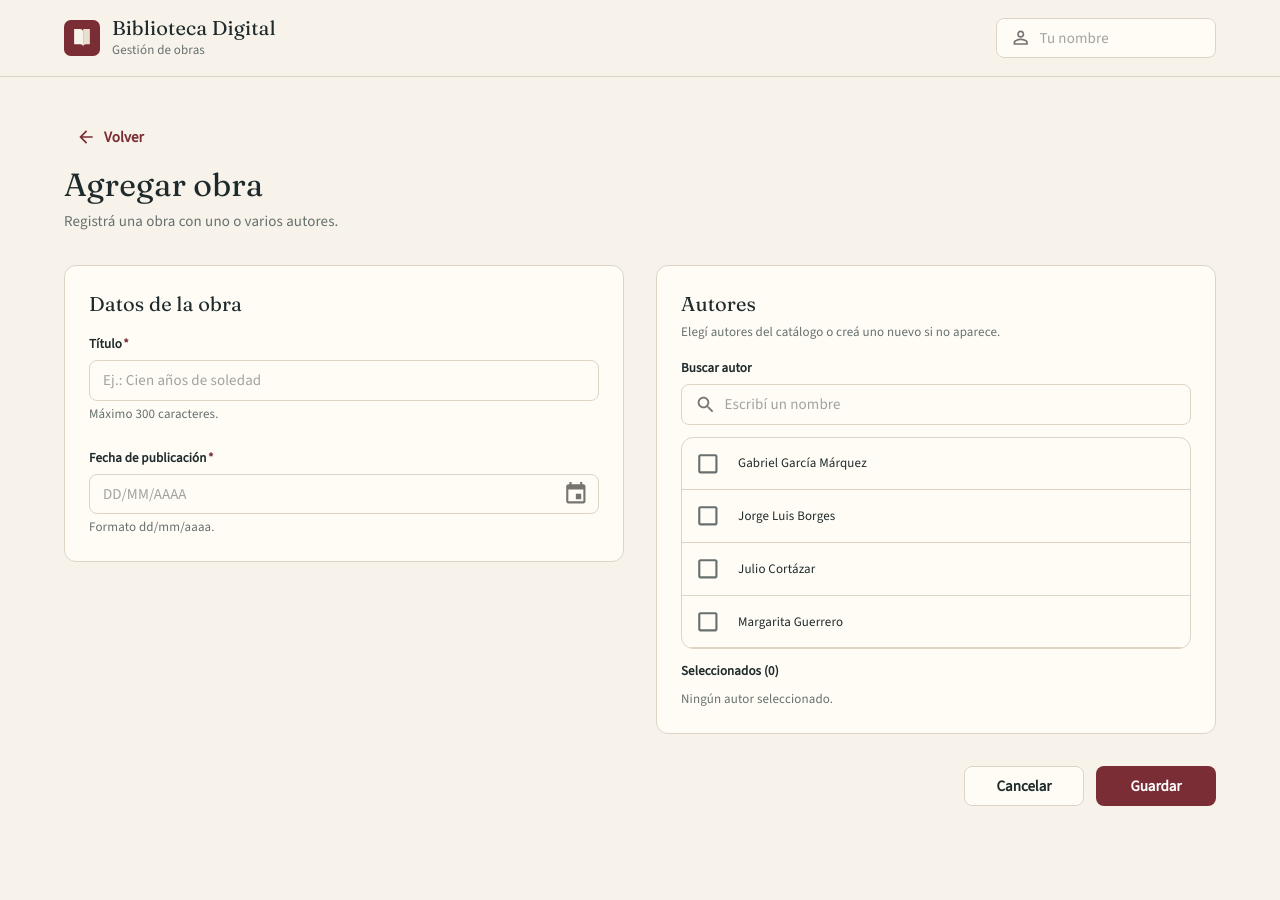
Test: Agregar obra › muestra un error general si la API falla
Expected: the list named "Autores encontrados" is shown, [682,438,1190,648]
In the field labelled "Título *": (344, 380) [89,360,599,401], type "Obra"
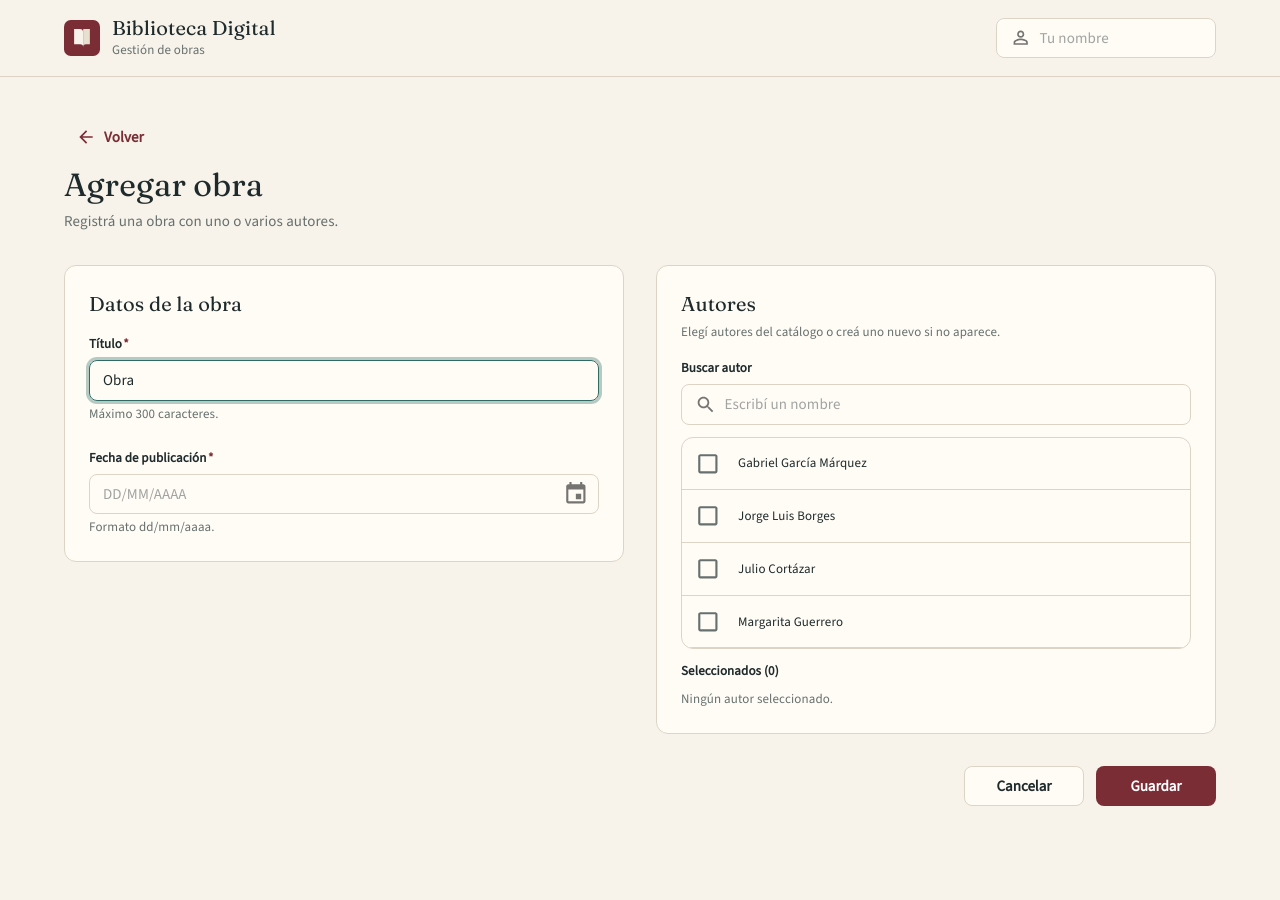
In the field labelled "Fecha de publicación *": (318, 494) [89,474,547,514], type "01012000"
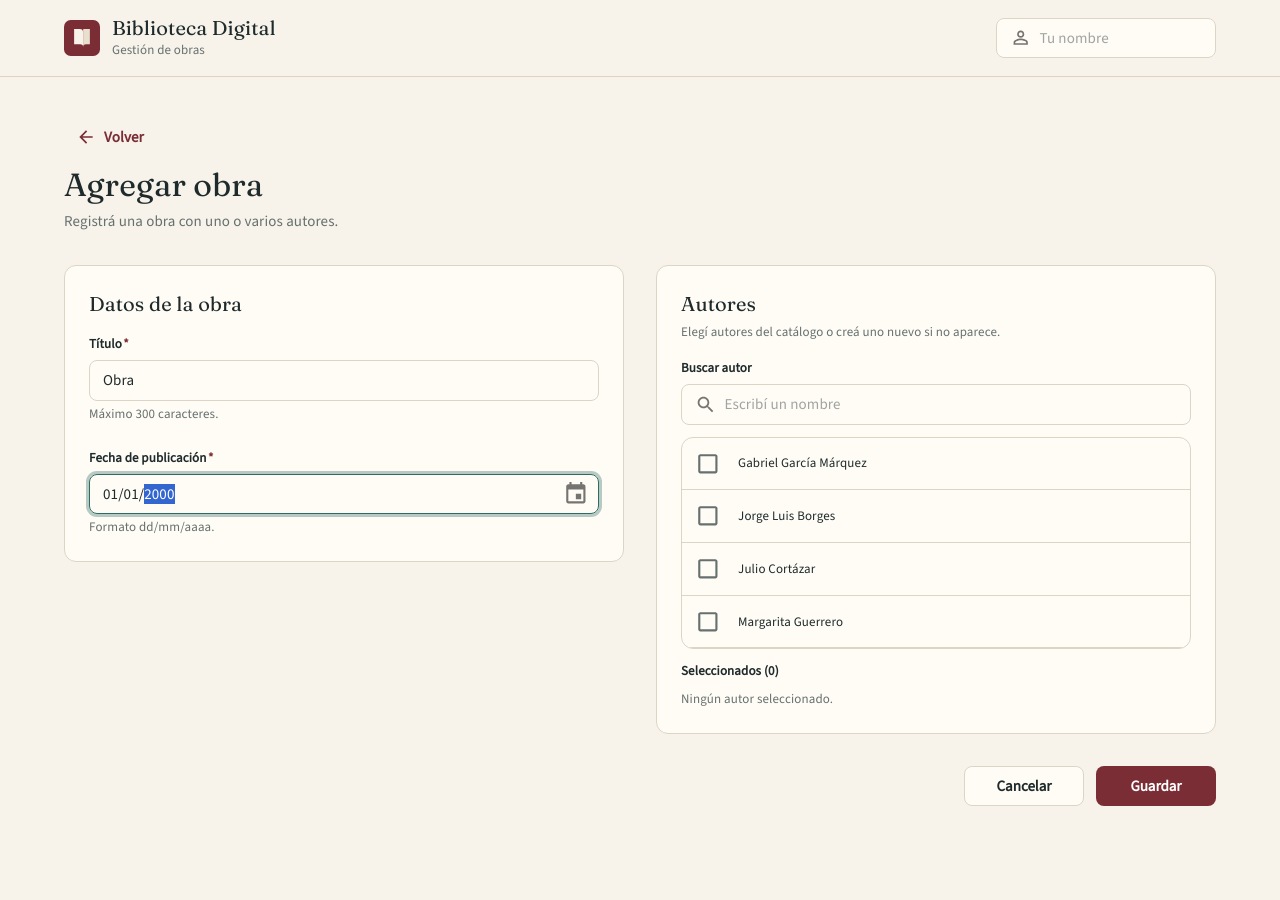
Click the checkbox labelled "Julio Cortázar": (708, 569) [695,556,721,582]
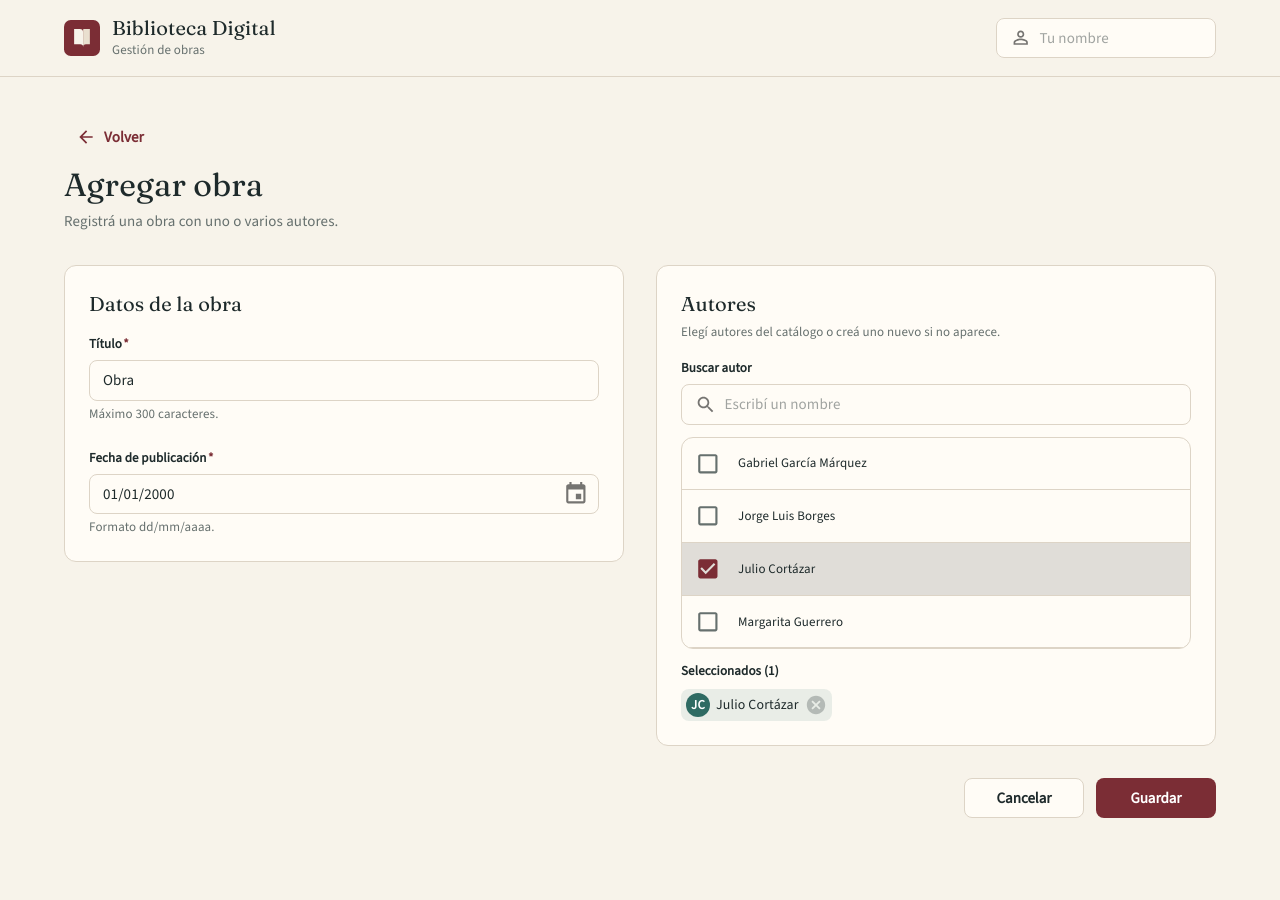
Click the button "Guardar": (1156, 798) [1096,778,1216,818]
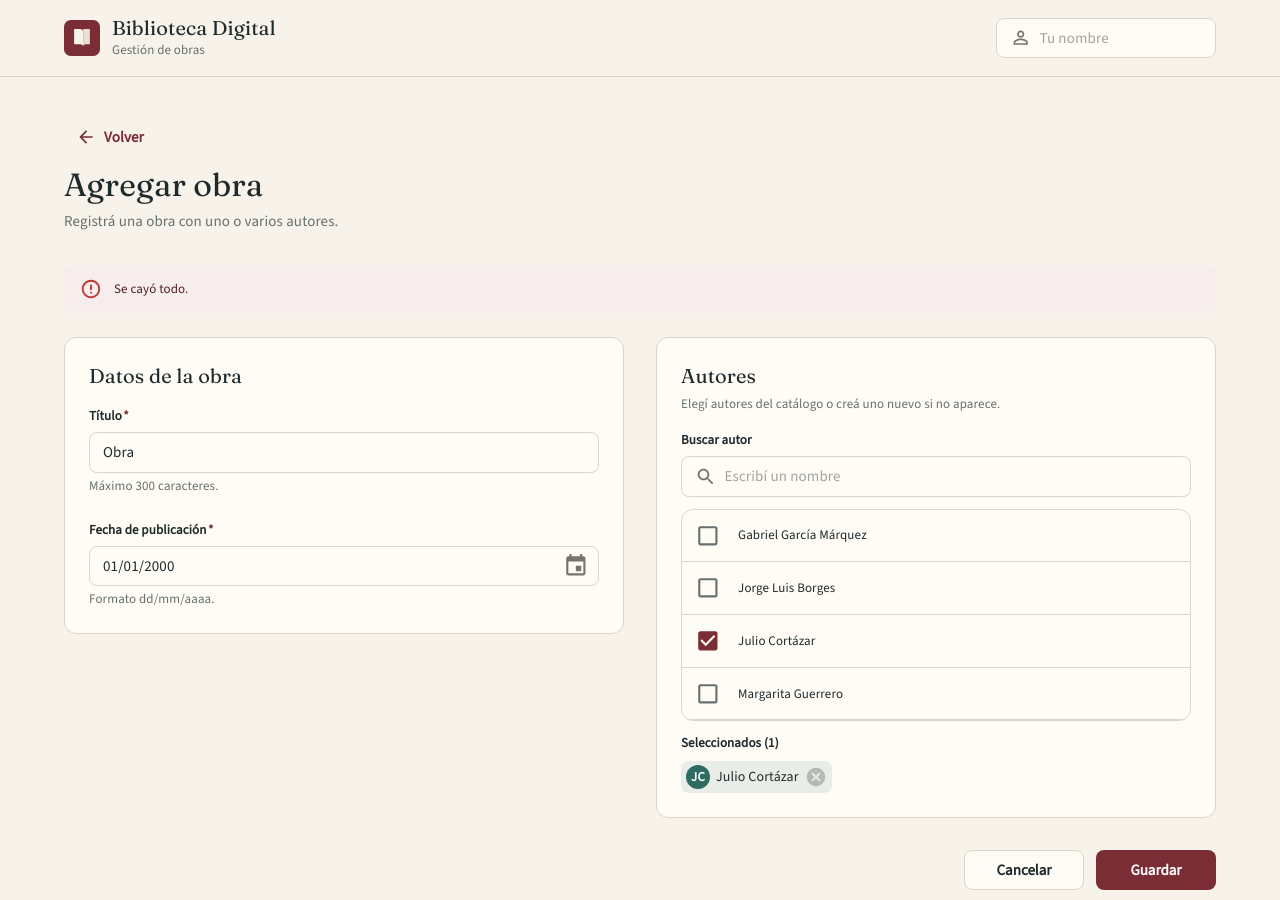
Result: the text "Se cayó todo." is shown at [114,280,188,297]
